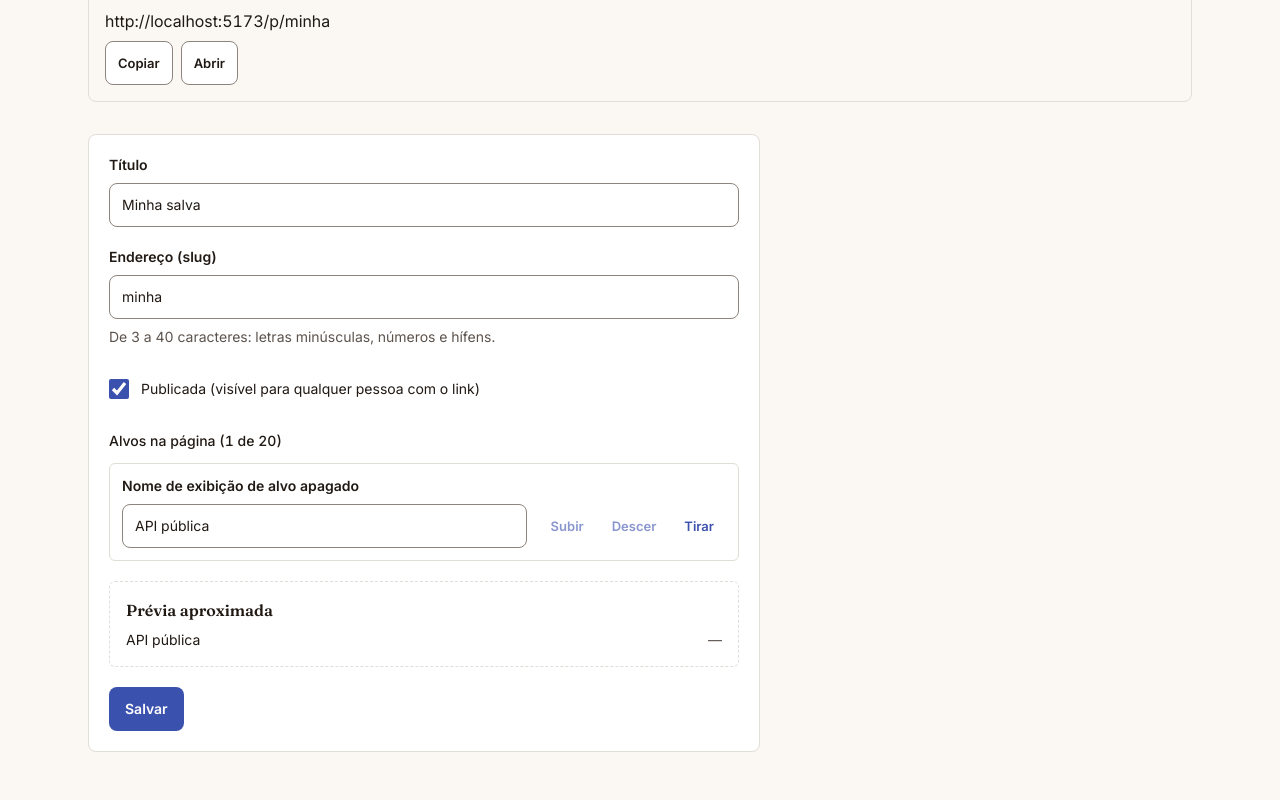
status page › salvar com 404 explica e recarrega
This screenshot has width=1280, height=800.
(page scrolled)
Click the button "Salvar".
click(146, 709)  # box [109,687,184,731]
(page scrolled)
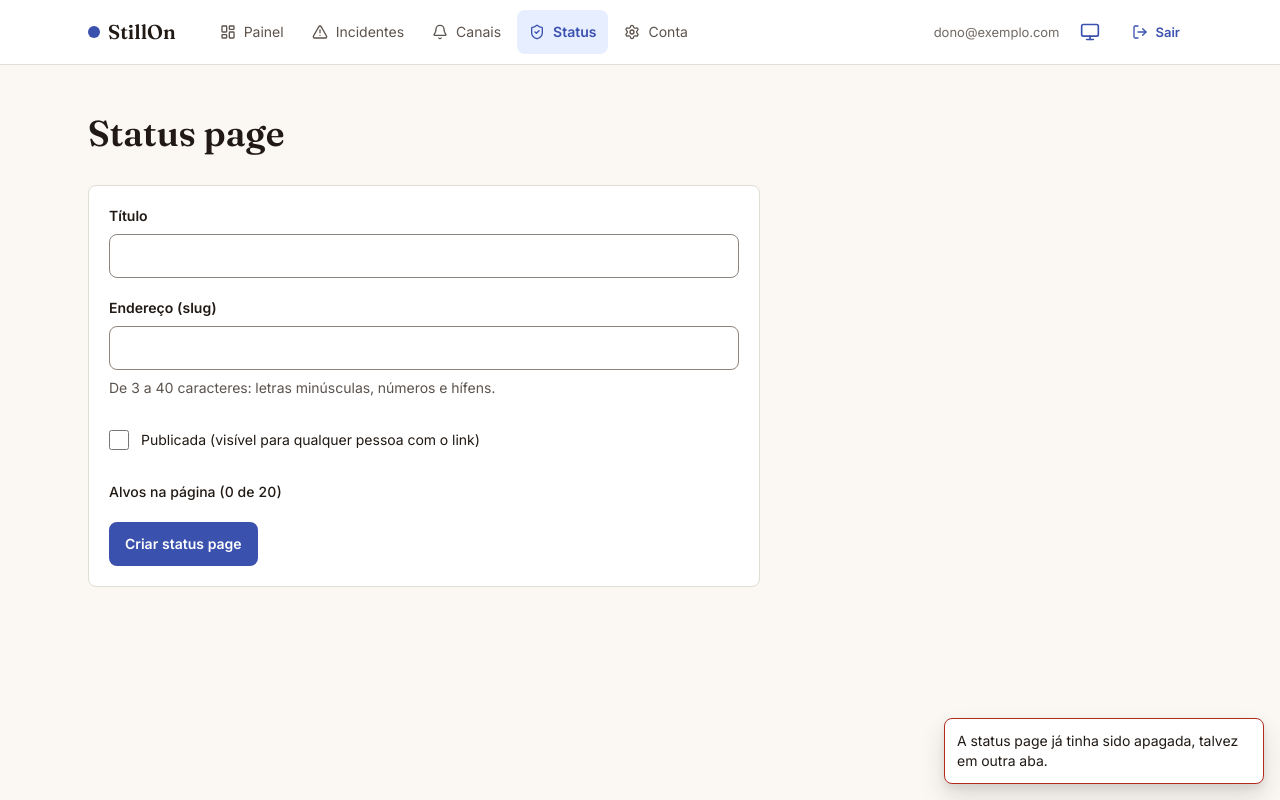
Now the text "A status page já tinha sido apagada, talvez em outra aba." is shown, box [957,731,1251,771]
Now the button "Criar status page" is shown, box [109,522,258,566]
